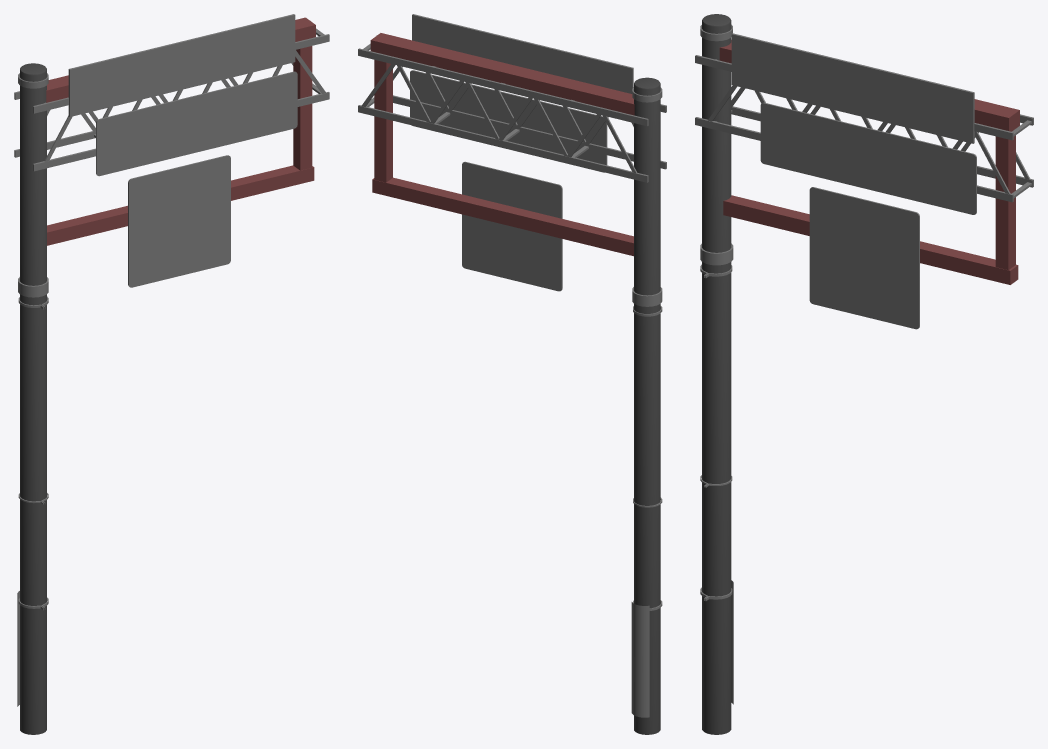
Rendered from SM_highway_signs_preset_02.fbx.
3 views of the same model, side by side, from view 1: azimuth 30°, elevation 25°; view 2: azimuth 150°, elevation 25°; view 3: azimuth 330°, elevation 25° (orthographic). The views are drawn at different scales.
Visible parts, largest first — view 1: Cylinder200; view 2: Cylinder200; view 3: Cylinder200.
Part boxes in pixels (x1,y1,x2,y2): Cylinder200: (14,14,329,734); Cylinder200: (358,14,666,734); Cylinder200: (695,14,1033,734).
Size of the model in its own units: 136 by 286 by 16.32.
